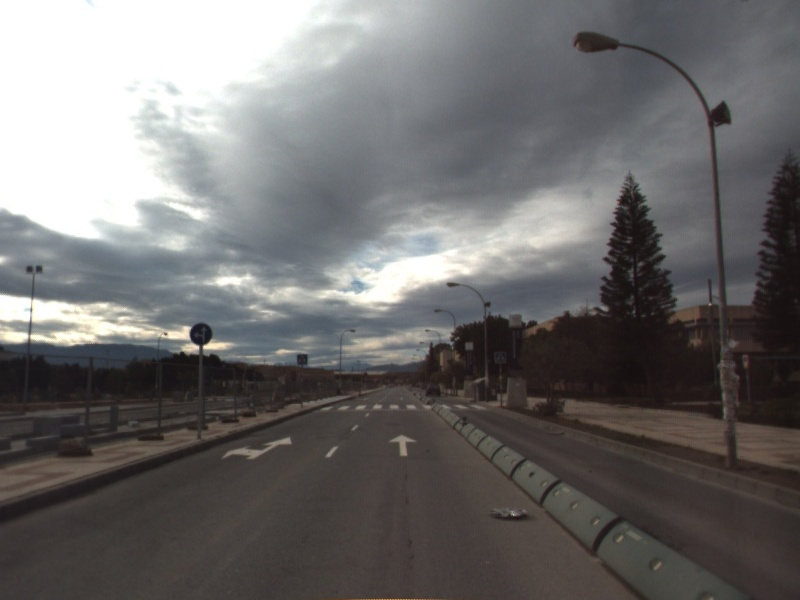STRAIGHT: (387, 432, 419, 458)
STRAIGHT_LEFT: (219, 435, 294, 462)
